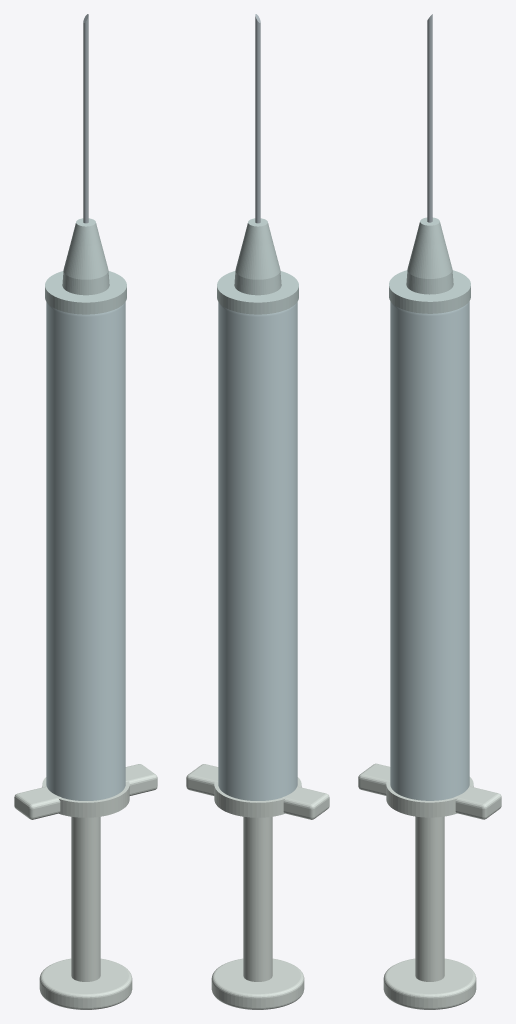
The model's file is A-NEW-20261027-SYRINGE-001_LOD0_R2.glb.
The picture shows the model from 3 angles, left to right: view 1: azimuth 30°, elevation 25°; view 2: azimuth 150°, elevation 25°; view 3: azimuth 330°, elevation 25°; orthographic projection.
Parts seen in each view (by area): view 1: hollow transparent barrel, projecting plunger rod, thumb pressure pad, tapered needle hub, closed static barrel front, rear flange collar, thin attached static needle, finger flange -1, finger flange 1; view 2: hollow transparent barrel, projecting plunger rod, thumb pressure pad, tapered needle hub, closed static barrel front, rear flange collar, thin attached static needle, finger flange -1, finger flange 1; view 3: hollow transparent barrel, projecting plunger rod, thumb pressure pad, tapered needle hub, closed static barrel front, rear flange collar, thin attached static needle, finger flange 1, finger flange -1.
Boxes of the visible parts, x1,y1,x2,y2 form: hollow transparent barrel: (46,302,125,800); projecting plunger rod: (71,816,100,981); thumb pressure pad: (39,958,132,1009); tapered needle hub: (62,218,109,295); closed static barrel front: (45,271,126,314); rear flange collar: (42,777,129,817); thin attached static needle: (83,14,88,223); finger flange -1: (14,786,61,819); finger flange 1: (125,764,157,795); hollow transparent barrel: (218,302,297,800); projecting plunger rod: (243,816,272,981); thumb pressure pad: (211,958,304,1009); tapered needle hub: (234,218,281,295); closed static barrel front: (217,271,298,314); rear flange collar: (214,777,301,817); thin attached static needle: (255,14,260,223); finger flange -1: (282,786,329,819); finger flange 1: (186,764,218,795); hollow transparent barrel: (390,301,469,800); projecting plunger rod: (415,816,444,981); thumb pressure pad: (383,958,476,1009); tapered needle hub: (406,217,453,294); closed static barrel front: (389,270,470,313); rear flange collar: (386,777,473,817); thin attached static needle: (427,14,432,222); finger flange 1: (454,786,501,819); finger flange -1: (358,763,390,795).
Bounding box in the file's own units: 0.0224 × 0.163 × 0.014.
